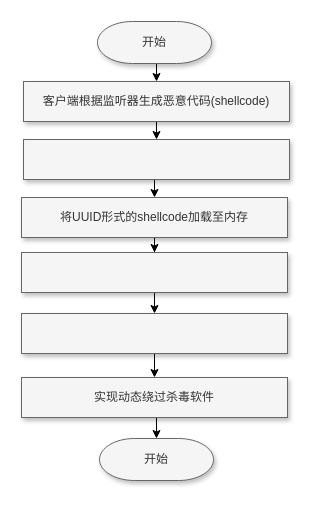
This 313x505 diagram has some shape labels left out. Each missing label, with the centre of its shape:
"利用回调函数 EnumSystemLocalesA(shellcode，0)进行shellcode注入" goes at point (155, 274).
"将shellcode和加载器打包成exe文件" goes at point (155, 334).
"将shellcode转化为UUID格式" goes at point (157, 160).
